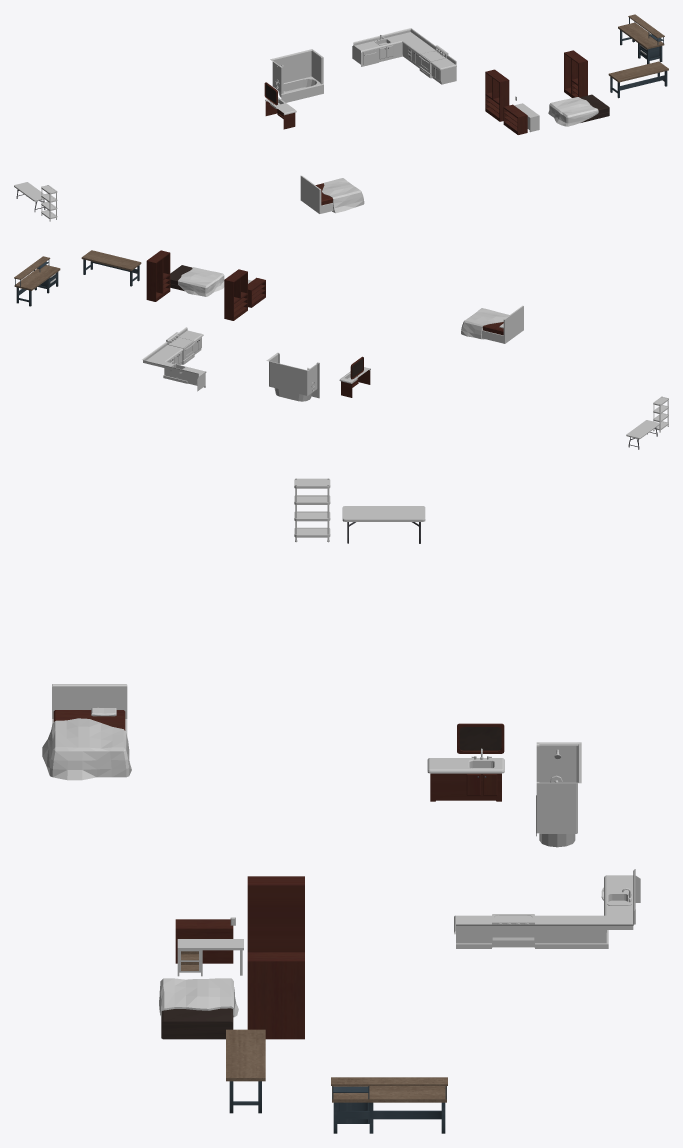
File: AssortedFurniture_0.fbx
The picture shows the model from 3 angles, top to bottom: view 1: azimuth 30°, elevation 25°; view 2: azimuth 150°, elevation 25°; view 3: azimuth 270°, elevation 25°; orthographic projection. The views are drawn at different scales.
Visible parts, largest first — view 1: Counters_Model, Bathtub_Model, Bed_0, Bed_1, WorkshopBench_1, Wardrobe_1, WorkshopBench_0, Wardobe_0, SmallWardrobe_0, BathroomSInk_Model, Stove_Model, PlasticShelf_Model (+2 smaller); view 2: Bathtub_Model, Counters_Model, Bed_0, Bed_1, WorkshopBench_1, Wardobe_0, Wardrobe_1, WorkshopBench_0, BathroomSInk_Model, Stove_Model, SmallWardrobe_0, PlasticShelf_Model (+1 smaller); view 3: Bed_0, Counters_Model, Wardobe_0, WorkshopBench_1, Bed_1, Bathtub_Model, Wardrobe_1, BathroomSInk_Model, WorkshopBench_0, SmallWardrobe_0, PlasticShelf_Model, MirrorBathroom_Model (+3 smaller).
Part boxes in pixels (left/top/right/bottom): Counters_Model: left=352, top=28, right=456, bottom=84; Bathtub_Model: left=270, top=49, right=323, bottom=102; Bed_0: left=300, top=175, right=364, bottom=213; Bed_1: left=548, top=94, right=609, bottom=126; WorkshopBench_1: left=618, top=14, right=664, bottom=64; Wardrobe_1: left=485, top=69, right=509, bottom=121; WorkshopBench_0: left=608, top=61, right=668, bottom=98; Wardobe_0: left=564, top=50, right=587, bottom=97; SmallWardrobe_0: left=503, top=104, right=527, bottom=134; BathroomSInk_Model: left=265, top=97, right=296, bottom=129; Stove_Model: left=419, top=45, right=448, bottom=78; PlasticShelf_Model: left=41, top=185, right=57, bottom=221; Bathtub_Model: left=266, top=352, right=319, bottom=401; Counters_Model: left=142, top=327, right=206, bottom=391; Bed_0: left=461, top=305, right=523, bottom=343; Bed_1: left=170, top=265, right=224, bottom=296; WorkshopBench_1: left=14, top=256, right=60, bottom=306; Wardobe_0: left=146, top=250, right=170, bottom=301; Wardrobe_1: left=224, top=269, right=247, bottom=320; WorkshopBench_0: left=81, top=250, right=141, bottom=286; BathroomSInk_Model: left=339, top=367, right=370, bottom=397; Stove_Model: left=166, top=332, right=194, bottom=364; SmallWardrobe_0: left=248, top=277, right=265, bottom=307; PlasticShelf_Model: left=653, top=396, right=668, bottom=432; Bed_0: left=42, top=684, right=131, bottom=780; Counters_Model: left=454, top=869, right=640, bottom=948; Wardobe_0: left=247, top=952, right=304, bottom=1039; WorkshopBench_1: left=331, top=1077, right=447, bottom=1133; Bed_1: left=159, top=978, right=238, bottom=1039; Bathtub_Model: left=536, top=742, right=581, bottom=847; Wardrobe_1: left=247, top=876, right=304, bottom=952; BathroomSInk_Model: left=427, top=748, right=504, bottom=801; WorkshopBench_0: left=226, top=1029, right=265, bottom=1113; SmallWardrobe_0: left=175, top=919, right=233, bottom=963; PlasticShelf_Model: left=294, top=478, right=330, bottom=542; MirrorBathroom_Model: left=457, top=723, right=504, bottom=753.
Size of the model in its own units: 39.88 by 2.5 by 16.65.
